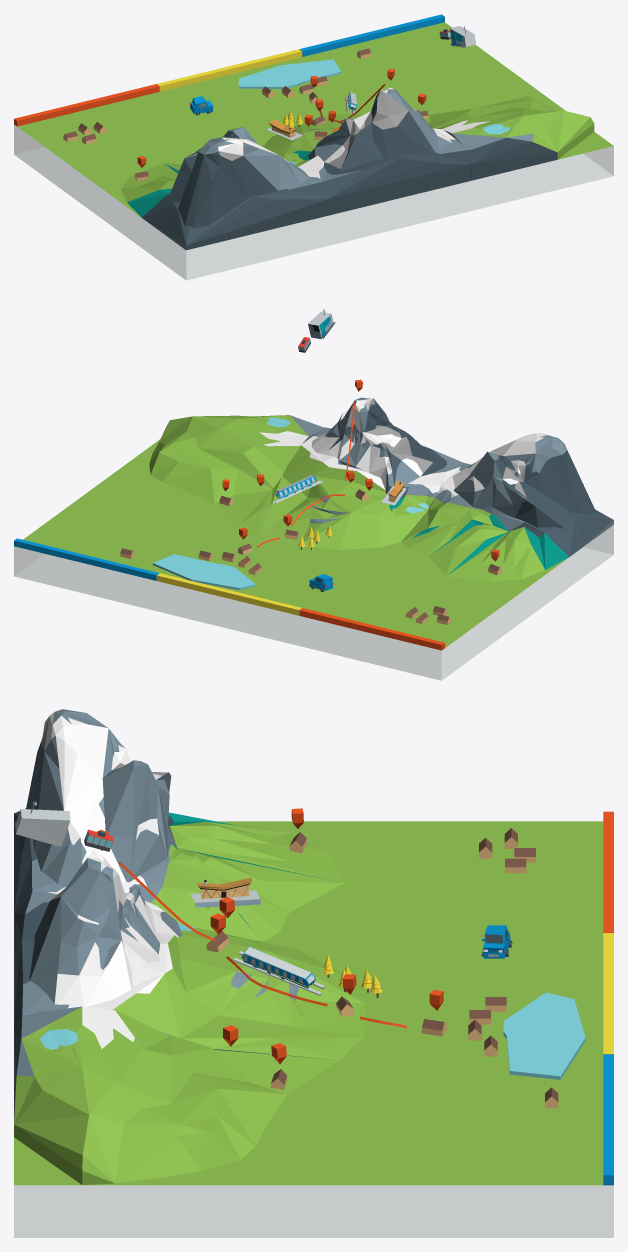
The model's file is map.glb.
The picture shows the model from 3 angles, top to bottom: view 1: azimuth 30°, elevation 25°; view 2: azimuth 150°, elevation 25°; view 3: azimuth 270°, elevation 25°; orthographic projection. The views are drawn at different scales.
Parts seen in each view (by area): view 1: group205372028, group932165243, group2126993567, group475224936, group1845701592, group387115814, group1113799402, group1265028055, group124410273, group512773198, group1202069558, group826367854; view 2: group205372028, group932165243, group2126993567, group475224936, group1845701592, group387115814, group1113799402, group1265028055, group124410273, group512773198, group2089938704, group1202069558; view 3: group205372028, group2126993567, group932165243, group475224936, group1845701592, group387115814, group1113799402, group1202069558, group2089938704, group512773198, group826367854, group1265028055 (+2 smaller).
Part boxes in pixels (x1,y1,x2,y2): group205372028: [14, 22, 613, 280]; group932165243: [262, 113, 470, 215]; group2126993567: [424, 96, 594, 180]; group475224936: [120, 163, 328, 250]; group1845701592: [166, 127, 309, 228]; group387115814: [308, 88, 452, 170]; group1113799402: [238, 59, 341, 89]; group1265028055: [14, 84, 159, 126]; group124410273: [157, 49, 302, 91]; group512773198: [299, 14, 444, 56]; group1202069558: [449, 26, 475, 47]; group826367854: [266, 119, 303, 140]; group205372028: [14, 439, 613, 680]; group932165243: [239, 427, 463, 549]; group2126993567: [149, 415, 323, 524]; group475224936: [401, 463, 613, 581]; group1845701592: [452, 433, 595, 528]; group387115814: [311, 397, 437, 498]; group1113799402: [153, 554, 255, 590]; group1265028055: [299, 608, 444, 650]; group124410273: [156, 573, 301, 615]; group512773198: [14, 538, 159, 580]; group2089938704: [272, 475, 322, 503]; group1202069558: [308, 309, 335, 339]; group205372028: [14, 821, 613, 1237]; group2126993567: [14, 1006, 340, 1184]; group932165243: [14, 891, 365, 1059]; group475224936: [14, 808, 344, 941]; group1845701592: [26, 709, 171, 887]; group387115814: [29, 849, 182, 1006]; group1113799402: [503, 992, 585, 1079]; group1202069558: [15, 801, 70, 846]; group2089938704: [233, 946, 324, 995]; group512773198: [603, 1054, 613, 1185]; group826367854: [190, 877, 260, 907]; group1265028055: [603, 811, 613, 932].
Bounding box in the file's own units: 6.37 × 2.57 × 4.44.
